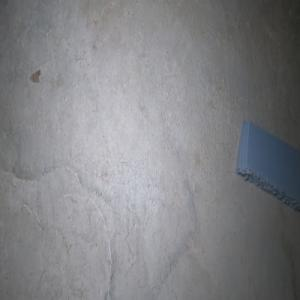PlasticPart: (235, 119, 300, 212)
